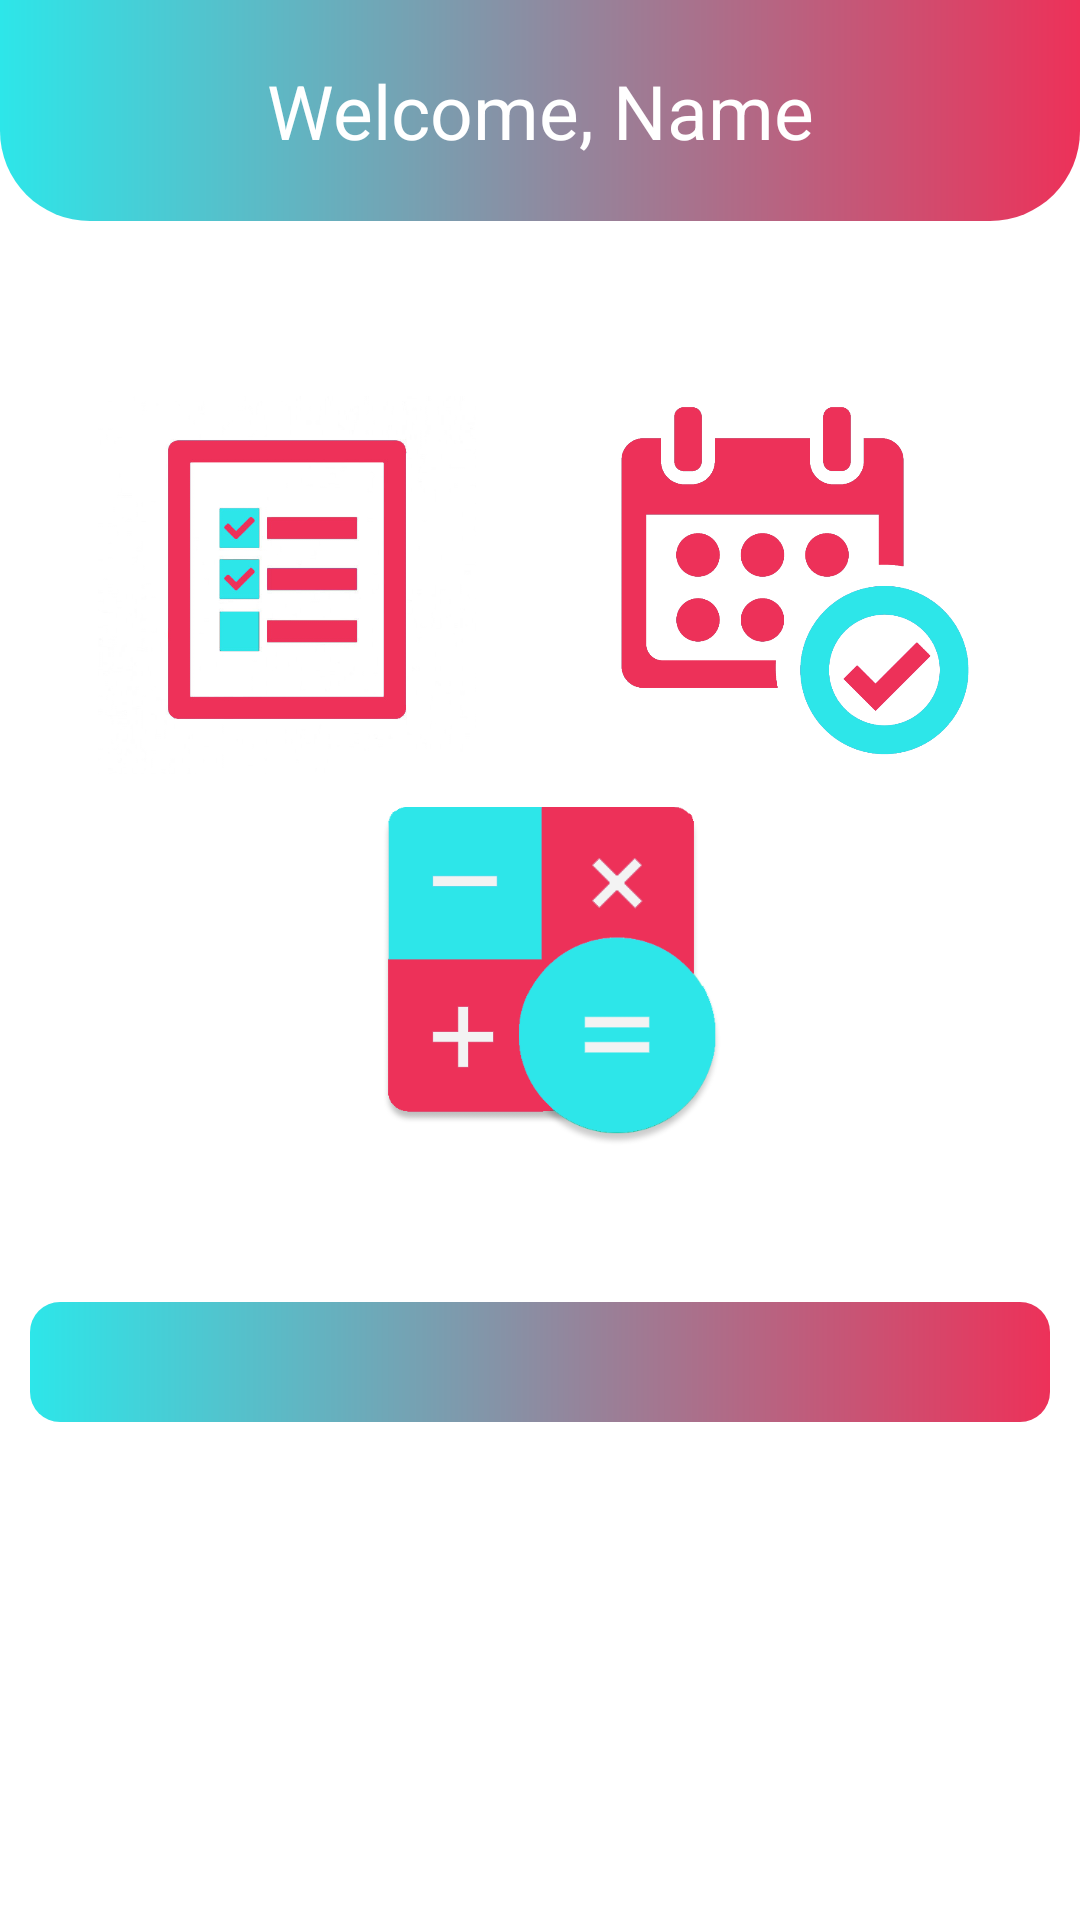

Point at icon controls on the screen. Image size 1080px x 1920px, points as [x,y].
calculator: [552,973]
schedule: [795,580]
to do: [287,579]
